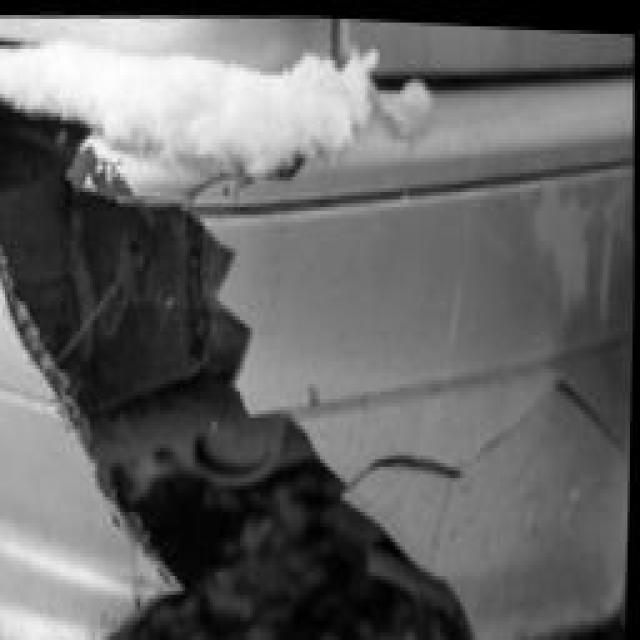Bumper: (0, 38, 639, 640)
